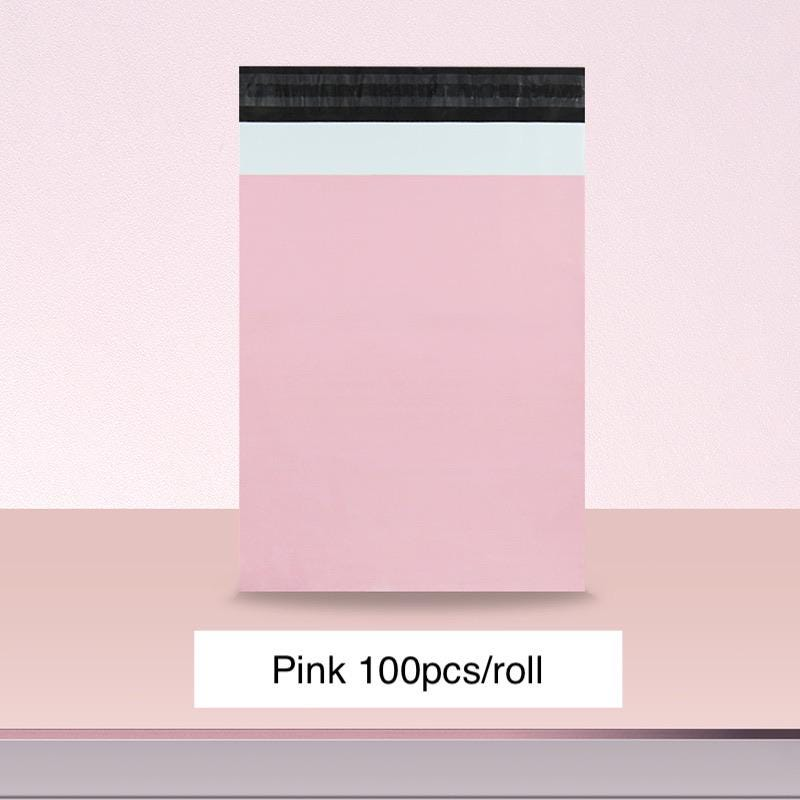Parcel: (239, 66, 585, 593)
